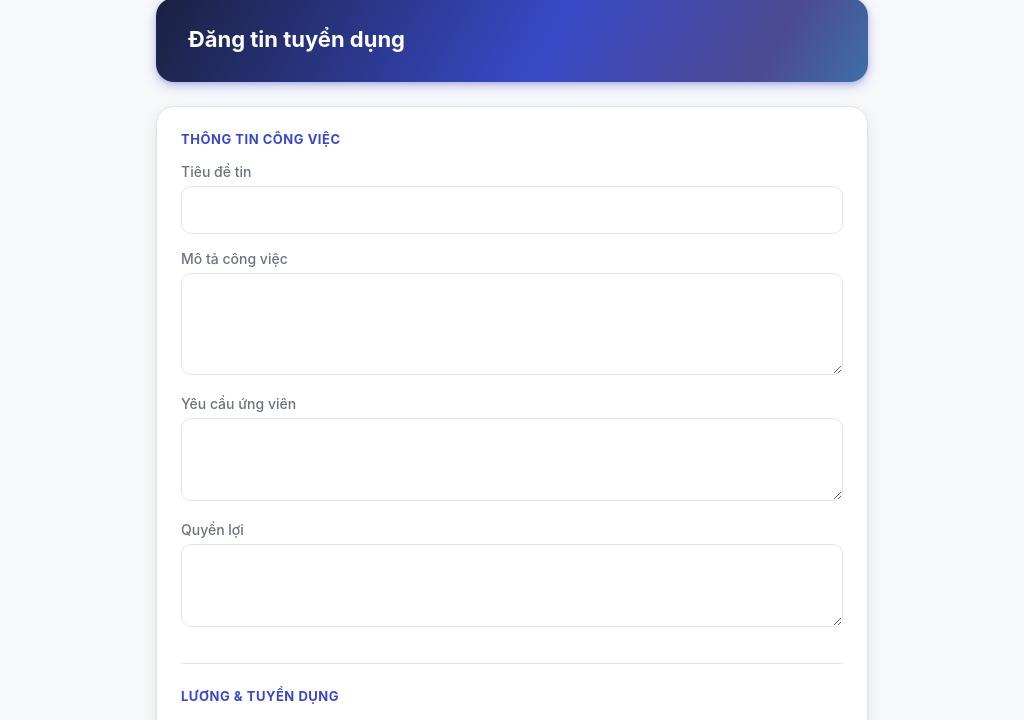
Test: PostJob - dang tin (QD09 han nop ho so) › surfaces the server's QD09 deadline error (MS06) instead of a generic message
Type "Backend Dev" into the field at (512, 210), box [181,186,843,234]
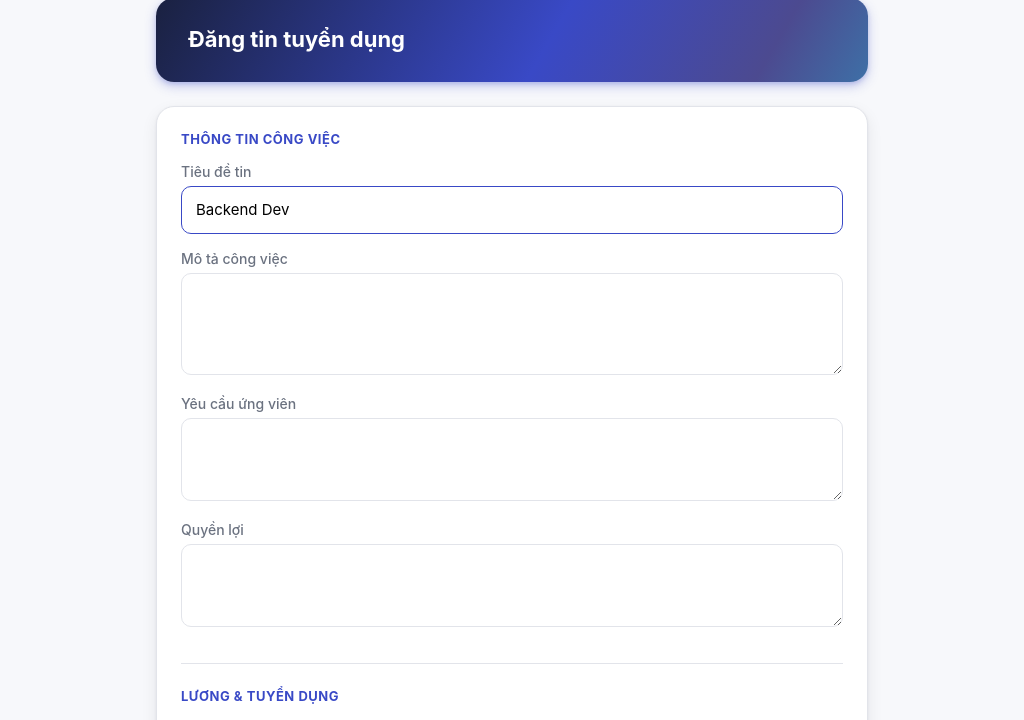
Type "Mo ta cong viec" into the text box below "Mô tả công việc" at (512, 324), box [181,272,843,374]
(page scrolled)
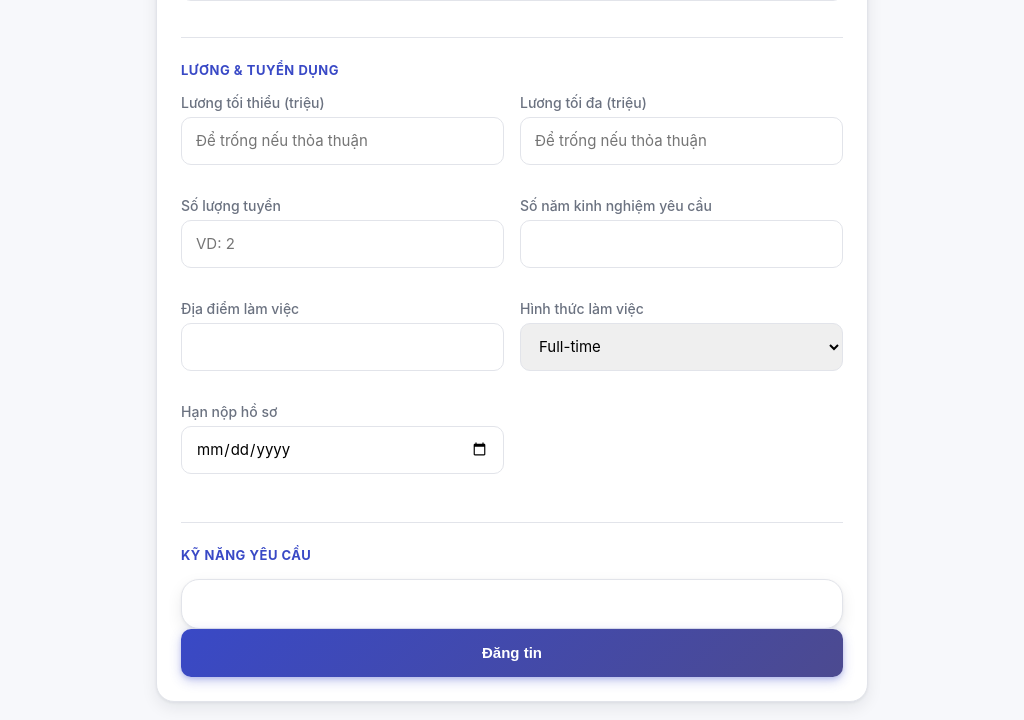
Type "2020-01-01" into the date field at (342, 450), box [181,426,504,474]
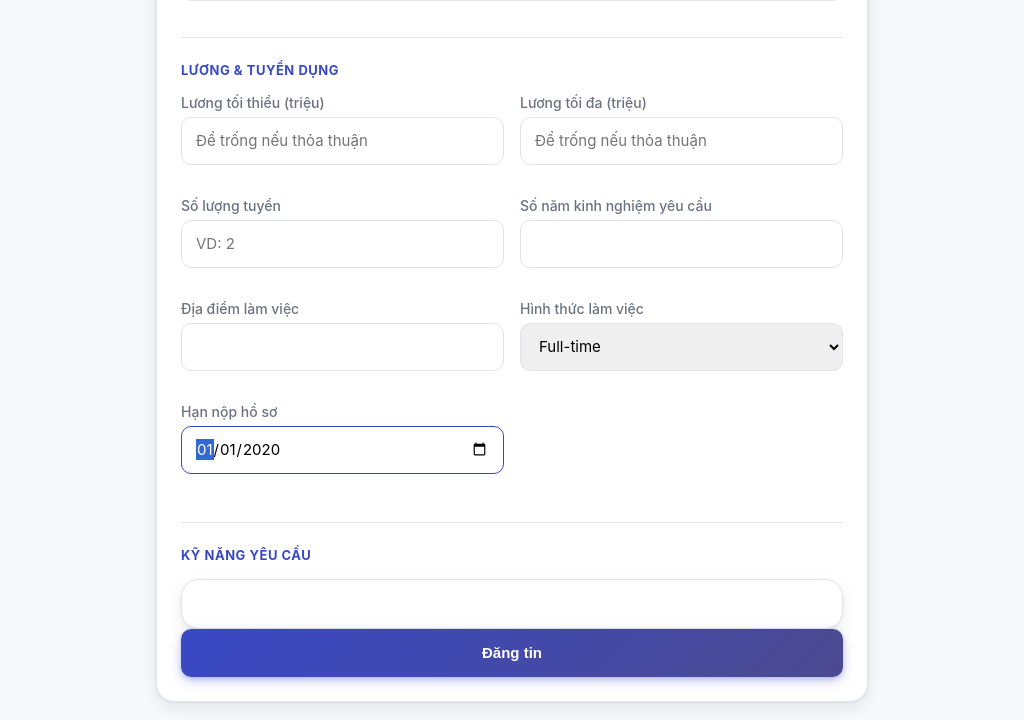
Click the button "Đăng tin" at (512, 652), box [181,628,843,676]
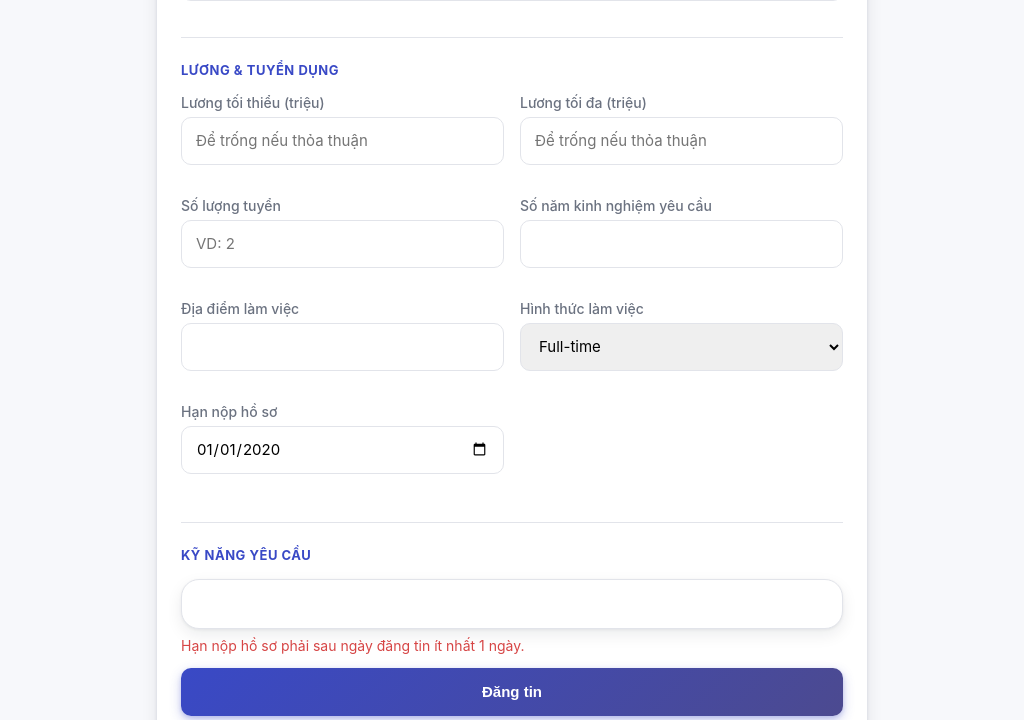
Expected: the text "Hạn nộp hồ sơ phải sau ngày đăng tin ít nhất 1 ngày." is shown, [181,636,524,654]
